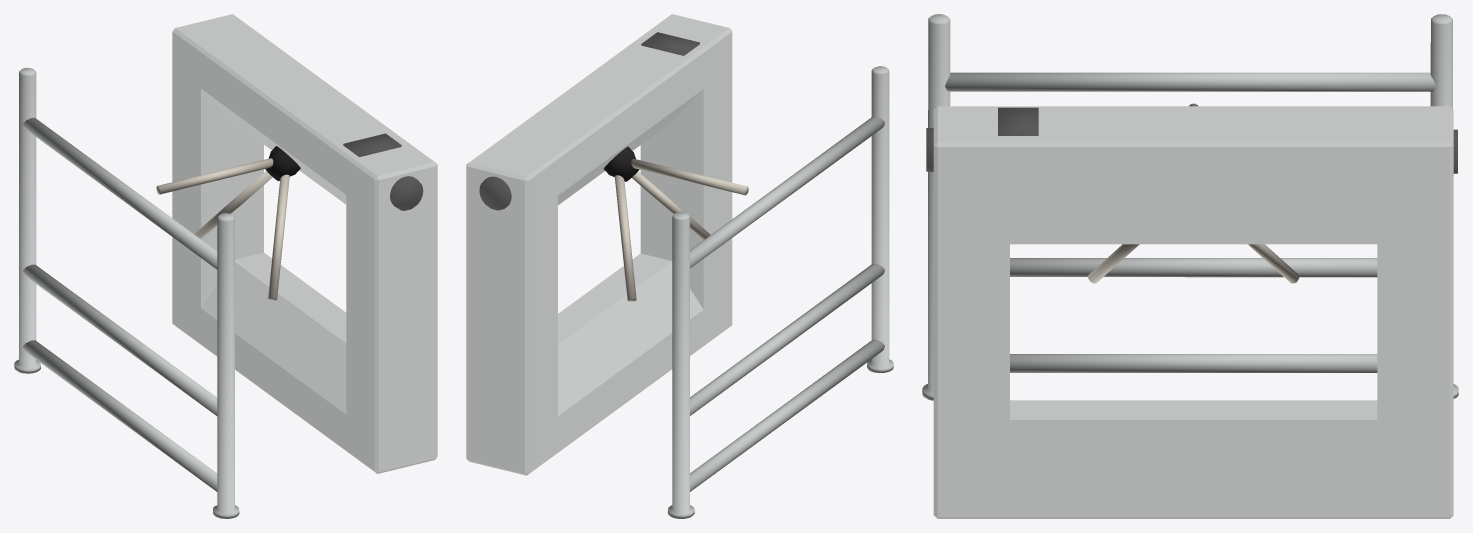
File: turnstile.glb
3 renders of one model, left to right at view 1: azimuth 30°, elevation 25°; view 2: azimuth 150°, elevation 25°; view 3: azimuth 270°, elevation 25°, orthographic. The views are drawn at different scales.
Visible parts, largest first — view 1: Catraca_Catraca_0, Protecao_Protecao_0, BaseGiratoria_BaseGiratoria_0; view 2: Catraca_Catraca_0, Protecao_Protecao_0, BaseGiratoria_BaseGiratoria_0; view 3: Catraca_Catraca_0, Protecao_Protecao_0, BaseGiratoria_BaseGiratoria_0.
Part boxes in pixels (box(x1,y1,x2,y2)): Catraca_Catraca_0: box(172, 14, 437, 473); Protecao_Protecao_0: box(14, 67, 239, 518); BaseGiratoria_BaseGiratoria_0: box(156, 146, 300, 300); Catraca_Catraca_0: box(466, 14, 732, 475); Protecao_Protecao_0: box(667, 66, 893, 518); BaseGiratoria_BaseGiratoria_0: box(604, 146, 748, 301); Catraca_Catraca_0: box(926, 106, 1457, 518); Protecao_Protecao_0: box(922, 14, 1458, 400); BaseGiratoria_BaseGiratoria_0: box(1088, 103, 1299, 283).
Size of the model in its own units: 81.32 by 106 by 134.
Materials: 3 (2 with a texture image).
